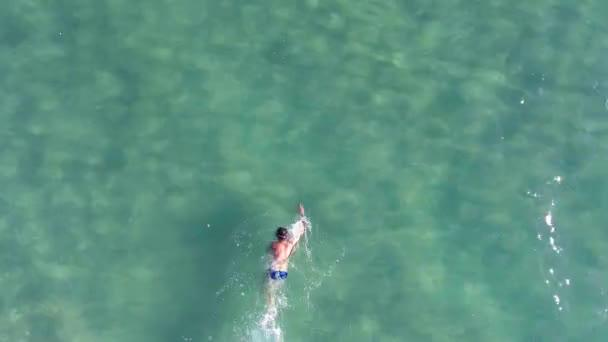swimmer: (263, 203, 309, 329)
